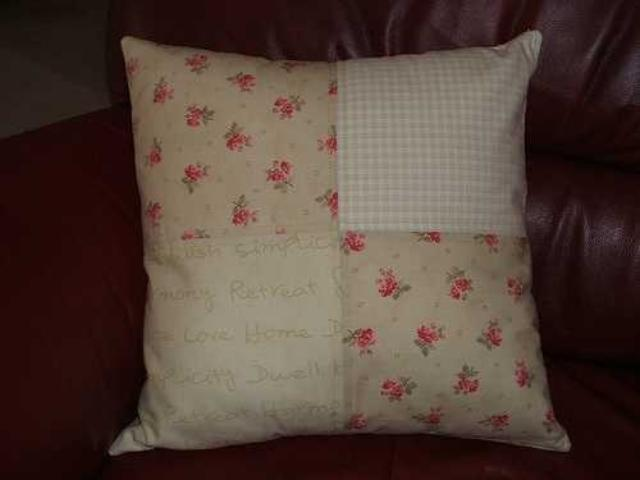pillow: (106, 28, 572, 454)
